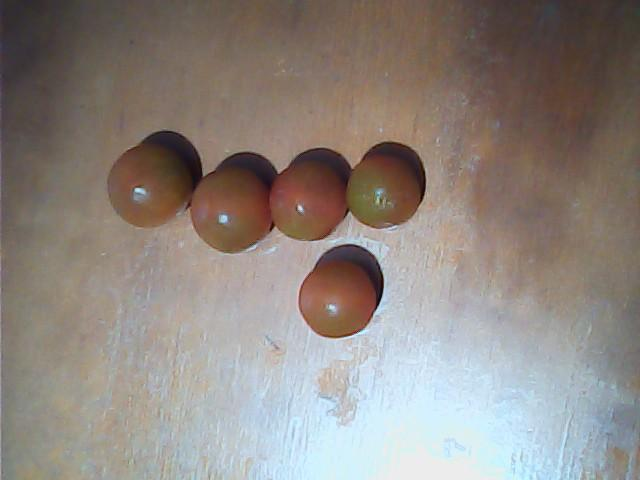verde: (109, 145, 193, 230), (190, 170, 271, 255), (298, 262, 376, 339), (347, 156, 422, 230), (271, 163, 342, 239)
